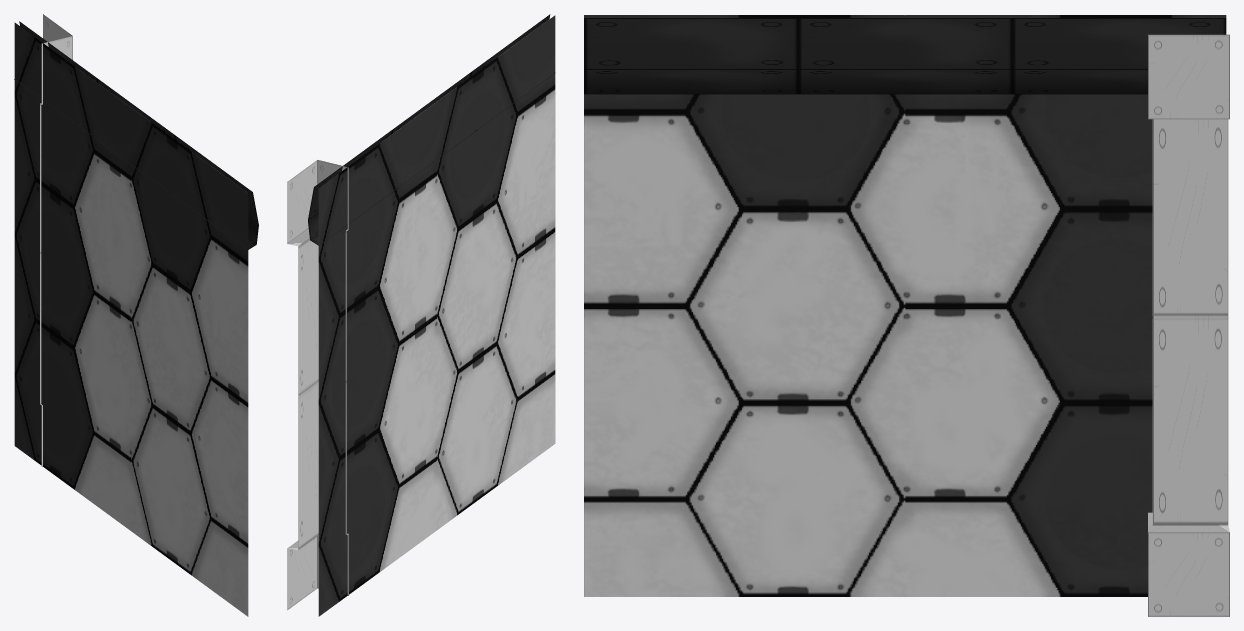
File: Wall_TopRIght.fbx
The picture shows the model from 3 angles, left to right: view 1: azimuth 30°, elevation 25°; view 2: azimuth 150°, elevation 25°; view 3: azimuth 270°, elevation 25°; orthographic projection. The views are drawn at different scales.
Parts seen in each view (by area): view 1: pPlane137; view 2: pPlane137; view 3: pPlane137.
Boxes of the visible parts, bbox=[...] form: pPlane137: bbox=[14, 14, 258, 616]; pPlane137: bbox=[287, 14, 555, 616]; pPlane137: bbox=[584, 15, 1229, 616].
Size of the model in its own units: 0.1534 by 2 by 2.01.
